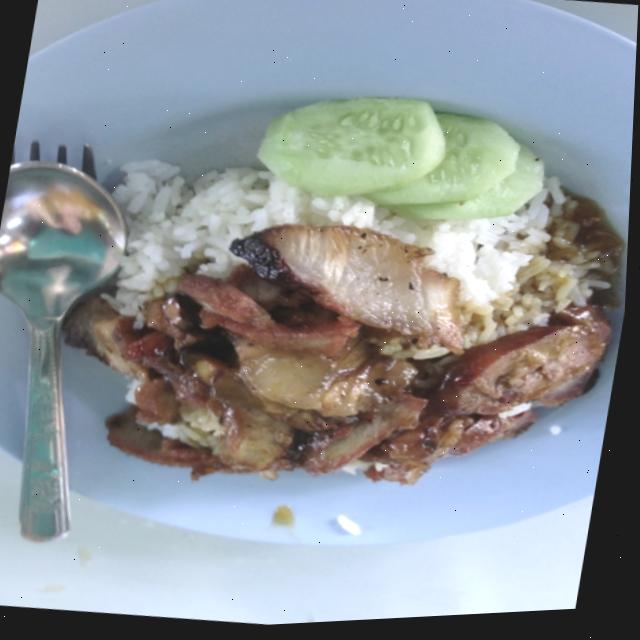猪肉菜式: (50, 47, 637, 585)
